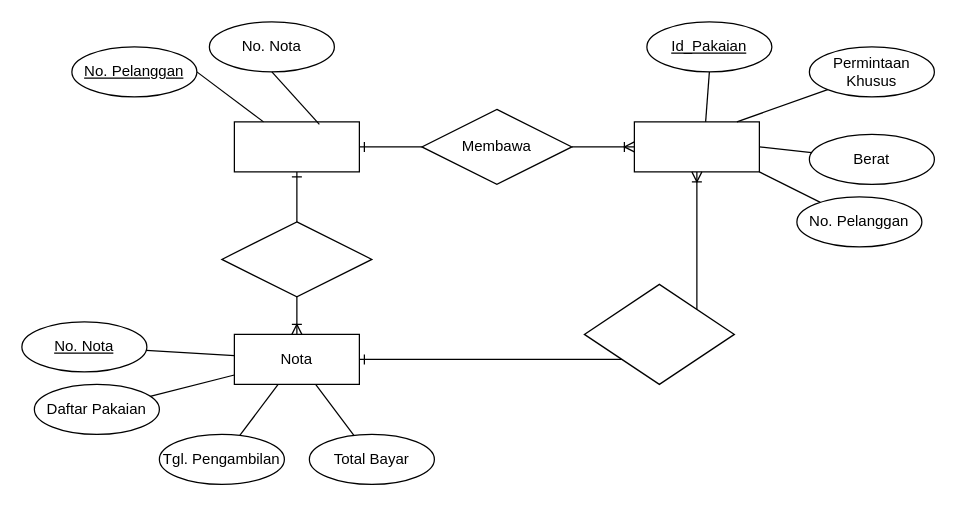
Some shapes in this 956 by 506 pixel diagram are drawn without their labels. Here are the shapes that lost their labels. From the top down, the centre of each, then its label:
the point at 296,146: Pelanggan
the point at 696,146: Pakaian
the point at 296,259: Mendapatkan
the point at 658,333: Tertulis
